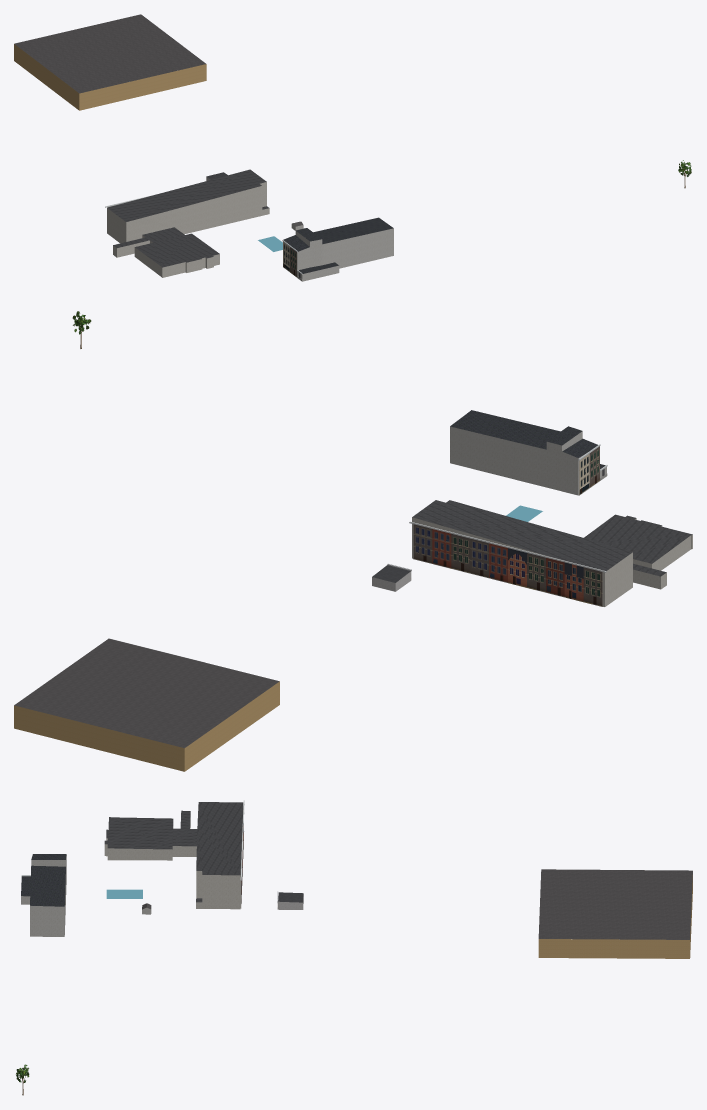
The picture shows the model from 3 angles, top to bottom: view 1: azimuth 30°, elevation 25°; view 2: azimuth 150°, elevation 25°; view 3: azimuth 270°, elevation 25°; orthographic projection. The views are drawn at different scales.
Parts seen in each view (by area): view 1: bldg_6004321936_roof, bldg_6004321920, bldg_6004321920_roof, bldg_6004321936, bldg_6004321935, bldg_6004321935_roof; view 2: bldg_6004321936_roof, bldg_6004321920_roof, bldg_6004321920_facade2, bldg_6004321936, bldg_6004321935, bldg_6004321935_roof, bldg_6004321920, bldg_6004321935_facade1; view 3: bldg_6004321936_roof, bldg_6004321920_roof, bldg_6004321936, bldg_6004321920, bldg_6004321935_roof, bldg_6004321935.
Part boxes in pixels (x1,y1,x2,y2): bldg_6004321936_roof: (14, 14, 205, 93); bldg_6004321920: (107, 182, 269, 277); bldg_6004321920_roof: (107, 169, 268, 267); bldg_6004321936: (14, 44, 206, 110); bldg_6004321935: (283, 228, 393, 281); bldg_6004321935_roof: (283, 217, 393, 273); bldg_6004321936_roof: (14, 638, 279, 748); bldg_6004321920_roof: (412, 500, 692, 576); bldg_6004321920_facade2: (409, 521, 606, 606); bldg_6004321936: (14, 681, 279, 771); bldg_6004321935: (450, 426, 586, 495); bldg_6004321935_roof: (450, 410, 605, 469); bldg_6004321920: (412, 517, 692, 606); bldg_6004321935_facade1: (578, 444, 600, 495); bldg_6004321936_roof: (538, 869, 692, 939); bldg_6004321920_roof: (104, 802, 243, 902); bldg_6004321936: (538, 875, 692, 958); bldg_6004321920: (104, 810, 243, 909); bldg_6004321935_roof: (21, 854, 66, 906); bldg_6004321935: (21, 854, 66, 936).
Size of the model in its own units: 233 by 14.92 by 241.
18 materials, 10 textured.
